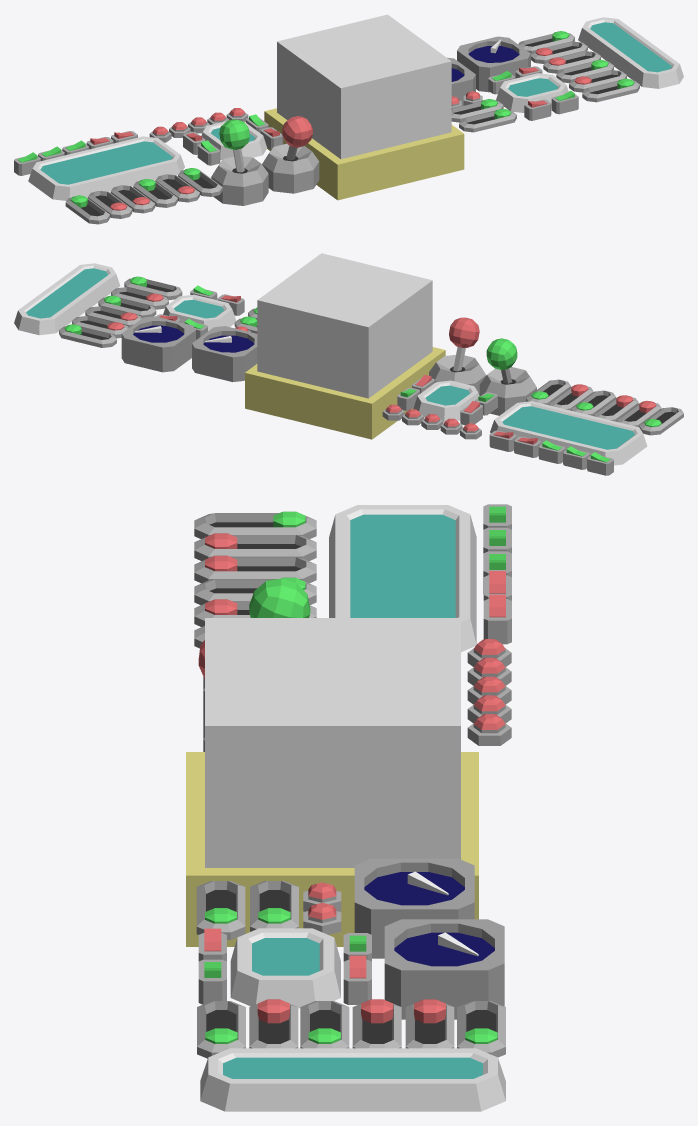
File: ControlPanel.fbx
3 renders of one model, top to bottom at view 1: azimuth 30°, elevation 25°; view 2: azimuth 150°, elevation 25°; view 3: azimuth 270°, elevation 25°, orthographic. The views are drawn at different scales.
Visible parts, largest first — view 1: ControlPanel, RedButton_Barrier; view 2: ControlPanel, RedButton_Barrier; view 3: ControlPanel, RedButton_Barrier.
Boxes of the visible parts, box(x1,y1,x2,y2) form: ControlPanel: box(14, 17, 683, 224); RedButton_Barrier: box(277, 14, 451, 159); ControlPanel: box(14, 263, 683, 475); RedButton_Barrier: box(257, 253, 432, 398); ControlPanel: box(186, 504, 511, 1111); RedButton_Barrier: box(205, 618, 460, 867).
Size of the model in its own units: 2848 by 484 by 670.
